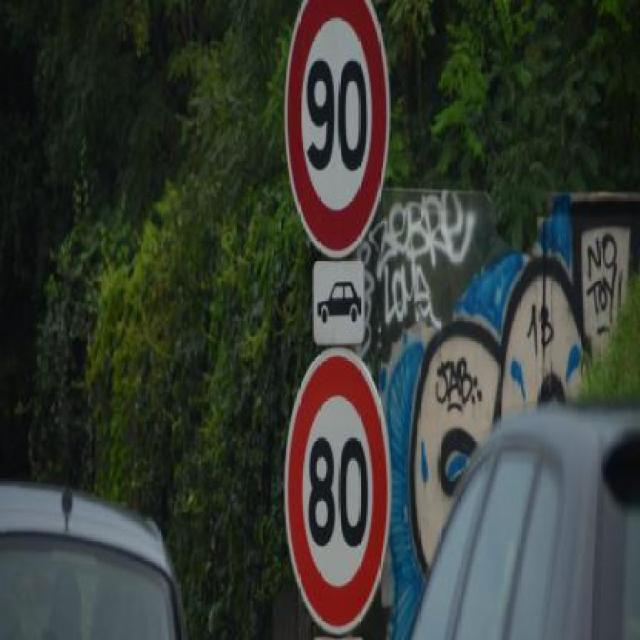forb_speed_over_80: (291, 354, 384, 629)
